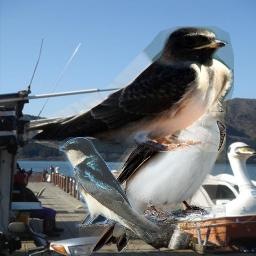Swallow: (21, 26, 234, 152), (79, 86, 226, 253), (59, 137, 167, 242)
